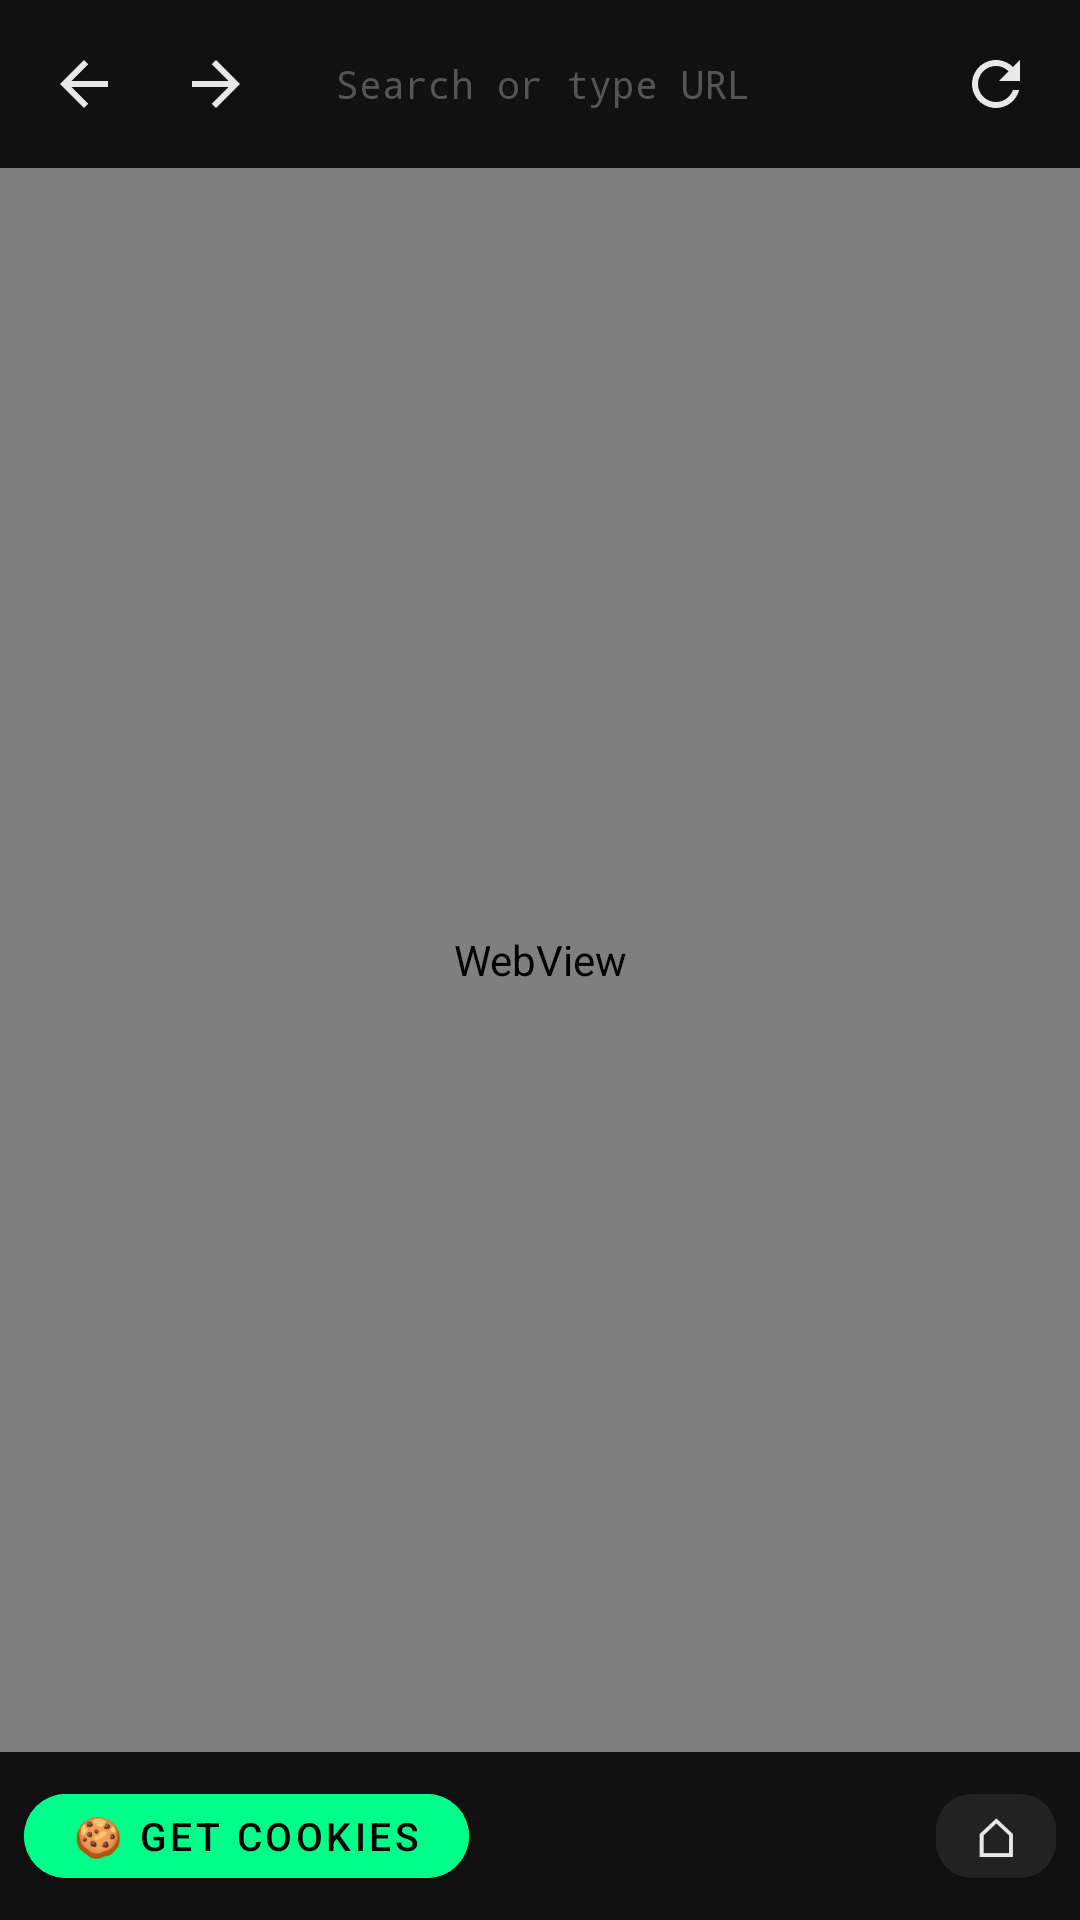

Screen size 1080 × 1920. Icon name, then its box in pixels as (x1, y1, x2, y2):
Back: (60, 60, 108, 108)
Forward: (192, 60, 240, 108)
Reload: (972, 60, 1020, 108)
